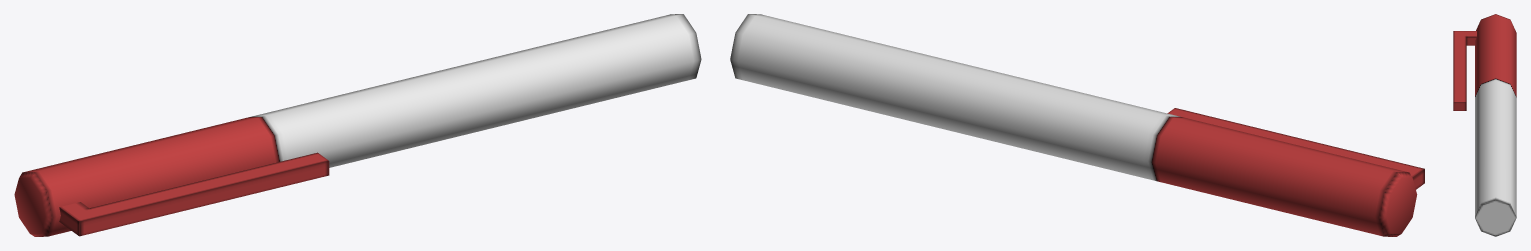
File: pen1.fbx
3 renders of one model, left to right at view 1: azimuth 30°, elevation 25°; view 2: azimuth 150°, elevation 25°; view 3: azimuth 270°, elevation 25°, orthographic. The views are drawn at different scales.
Parts seen in each view (by area): view 1: polySurface464; view 2: polySurface464; view 3: polySurface464.
Part boxes in pixels (bbox=[...]): polySurface464: bbox=[14, 14, 701, 236]; polySurface464: bbox=[730, 14, 1424, 236]; polySurface464: bbox=[1453, 14, 1516, 236].
Bounding box in the file's own units: 0.1852 × 0.0175 × 0.0265.
